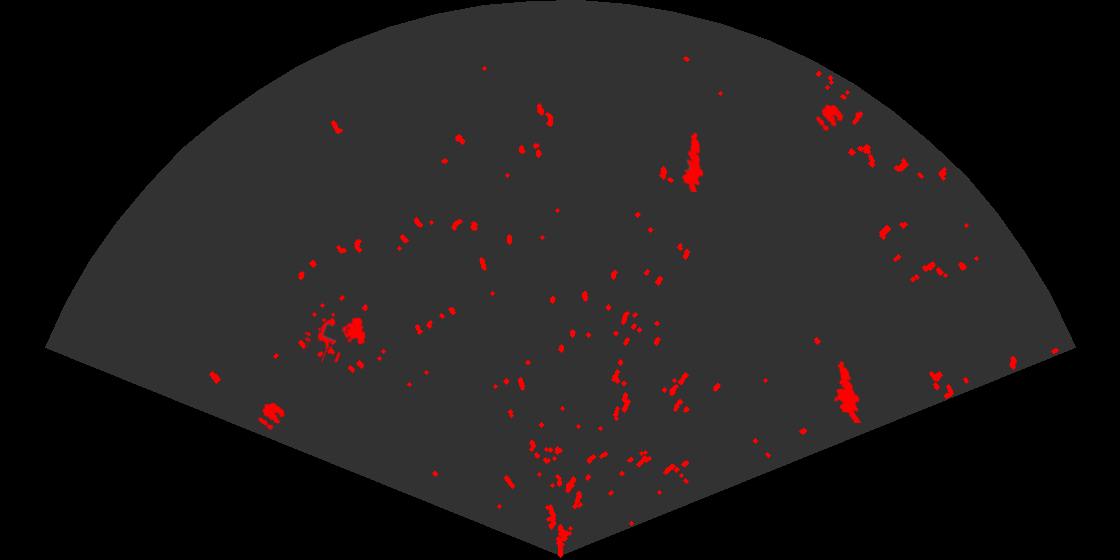ball: (814, 103, 845, 133), (257, 401, 287, 431)
cage: (305, 311, 367, 362)
frogman: (832, 359, 863, 423), (680, 130, 705, 192)
